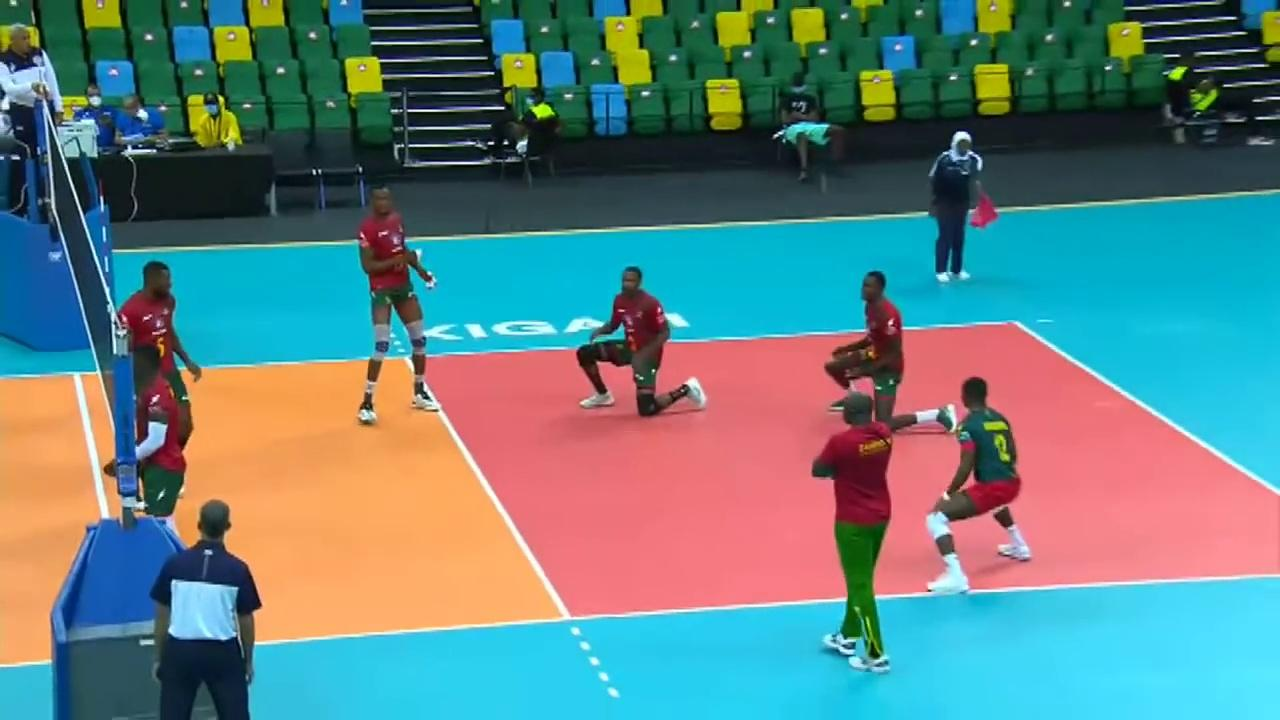player: (829, 259, 959, 441), (350, 184, 441, 428), (926, 379, 1034, 583), (113, 264, 200, 511), (571, 263, 695, 417), (118, 343, 195, 579)
refree: (153, 503, 262, 720), (0, 21, 66, 193), (921, 128, 993, 282)
